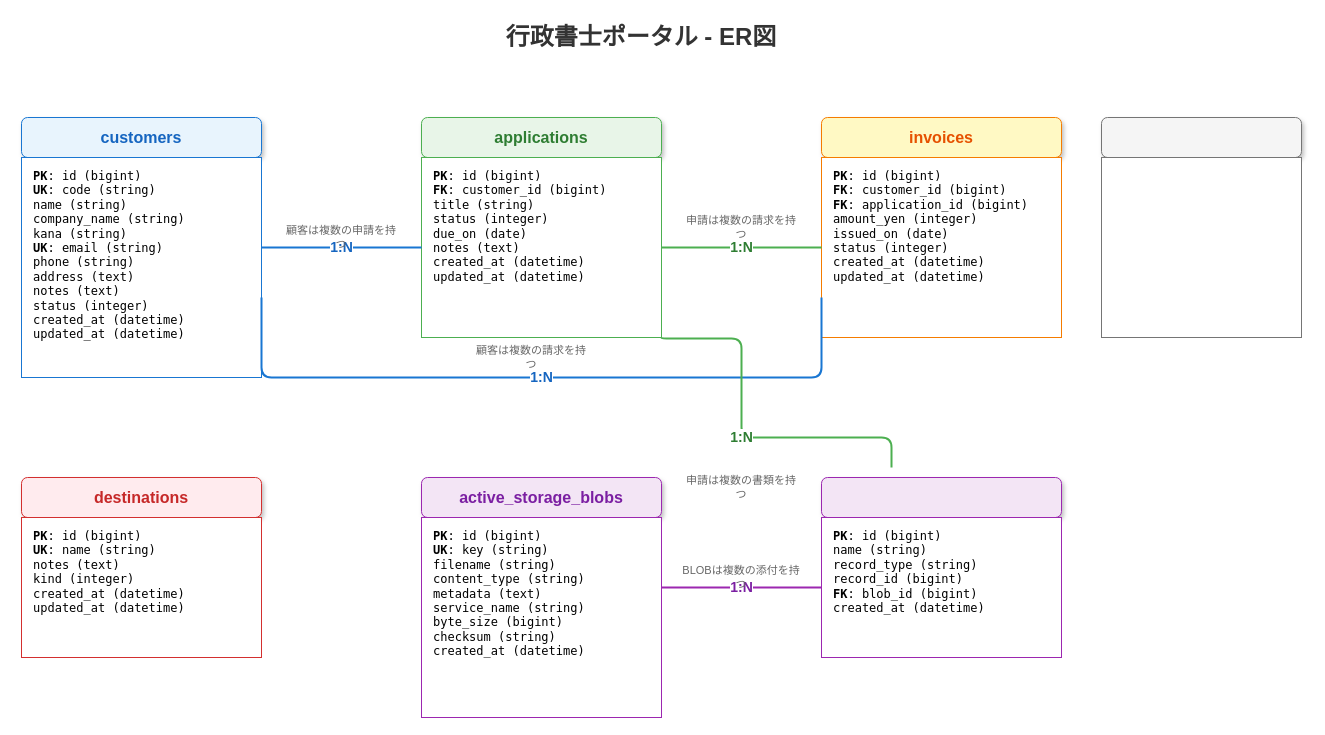
This 1325x735 diagram has some shape labels left out. The shapes that lost their labels are listed below. From the top down, each one's centre as x and y in pixels, then its label:
point (1202, 138): 凡例
point (1201, 247): PK : 主キー FK : 外部キー UK : 一意キー 色分け : 🔵 顧客 🟢 申請 🟡 請求 🔴 提出先 🟣 ファイル
point (942, 498): active_storage_attachments
